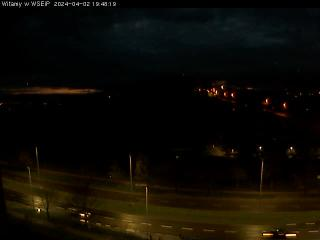car: (261, 226, 297, 240), (68, 204, 92, 218)
